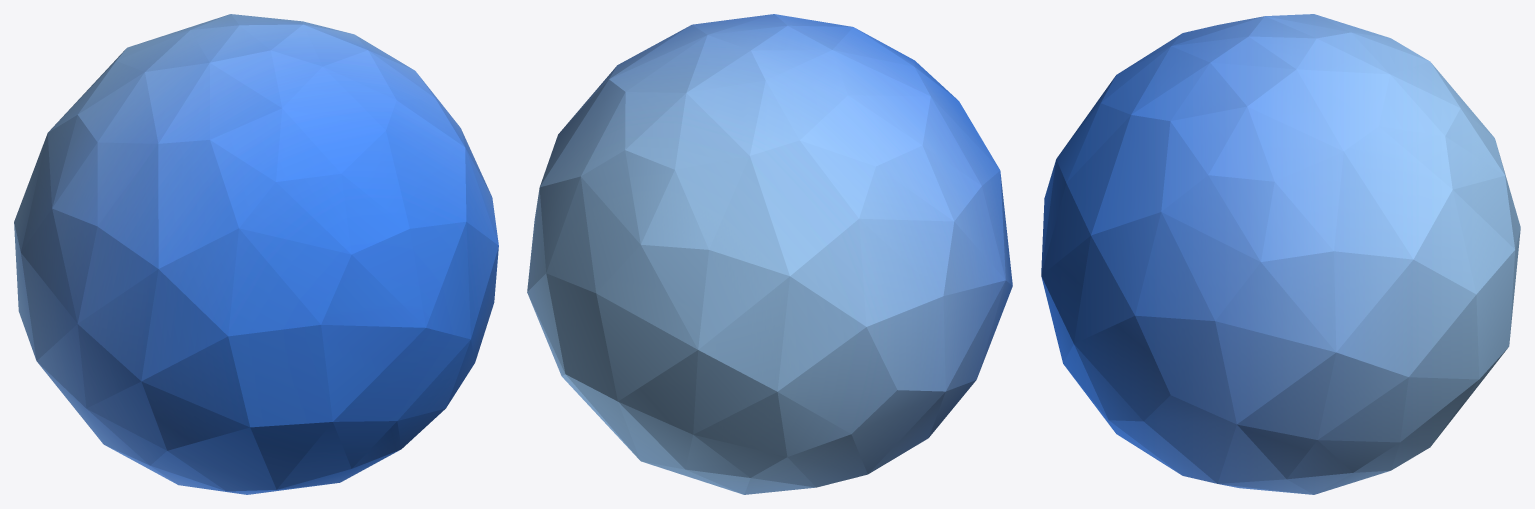
Rendered from Earth.glb.
3 renders of one model, left to right at view 1: azimuth 30°, elevation 25°; view 2: azimuth 150°, elevation 25°; view 3: azimuth 270°, elevation 25°, orthographic.
Visible parts, largest first — view 1: Sphere; view 2: Sphere; view 3: Sphere.
Boxes of the visible parts, <box> form: Sphere: <box>14,14,498,494</box>; Sphere: <box>527,14,1012,494</box>; Sphere: <box>1041,14,1520,494</box>.
Bounding box in the file's own units: 8 × 8 × 8.
1 material, 1 textured.
